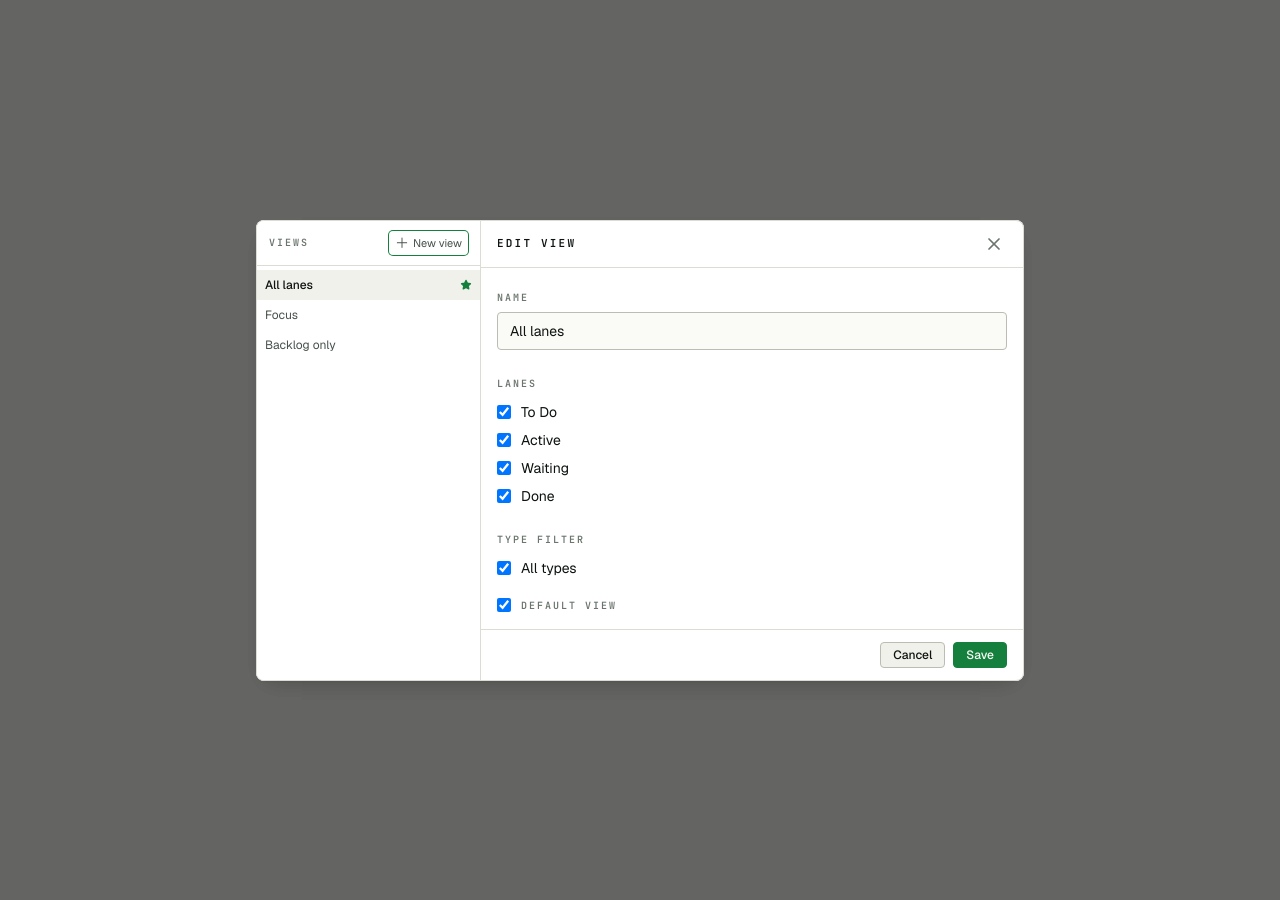
Scenario: ViewEditor — rendering & selection › selecting a view loads its values into the form
Expected: the field showing "All lanes" is shown, [497, 312, 1007, 350]
Act — click the "Focus" row in the left pane.
Click the button "Focus" at (368, 315), box [265, 306, 472, 324]
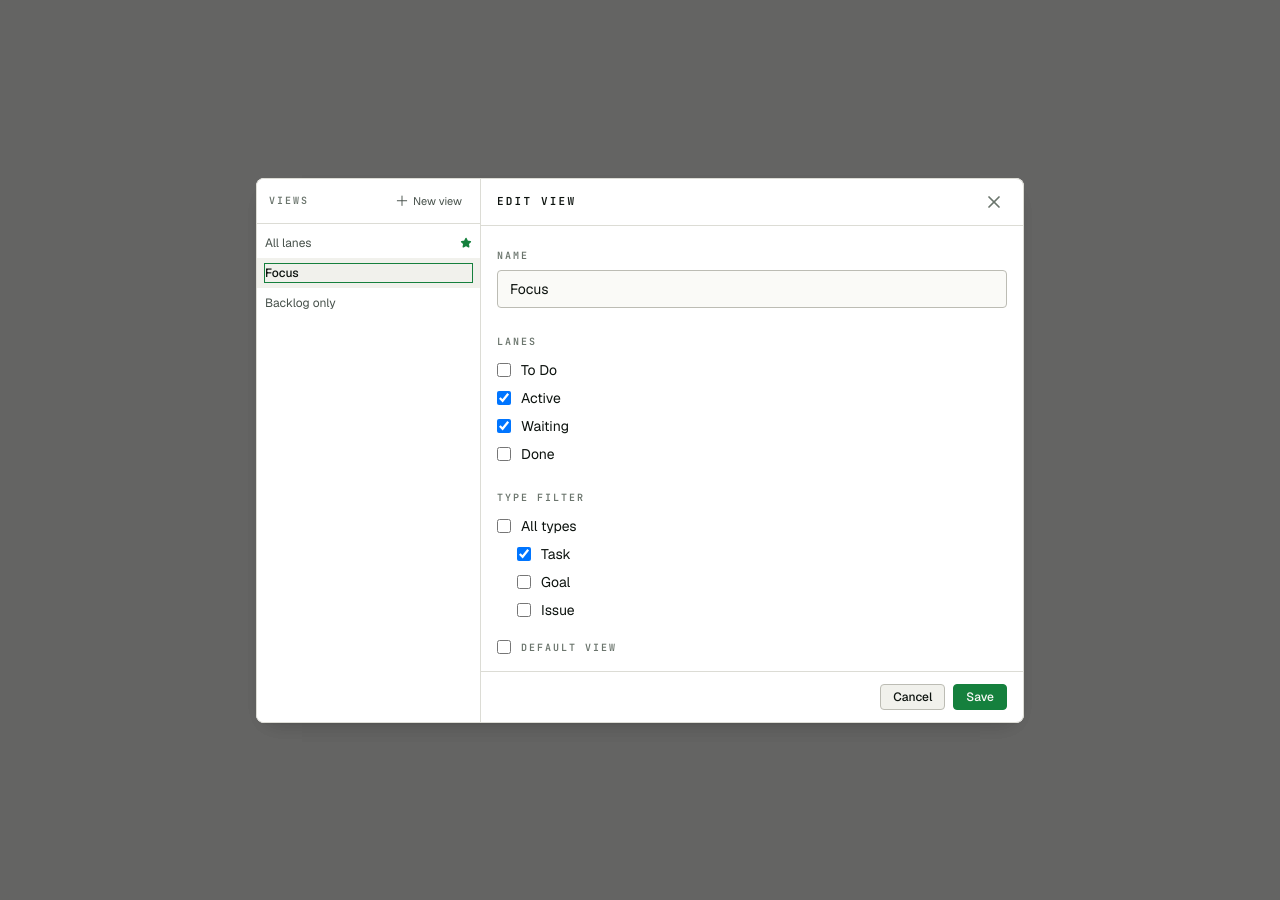
Now the checkbox labelled "Lanes To Do Active Waiting Done" is not checked, box [497, 362, 511, 376]
Now the checkbox labelled "Done" is not checked, box [497, 446, 511, 460]
Now the checkbox labelled "Type filter All types Task Goal Issue" is not checked, box [497, 518, 511, 532]
